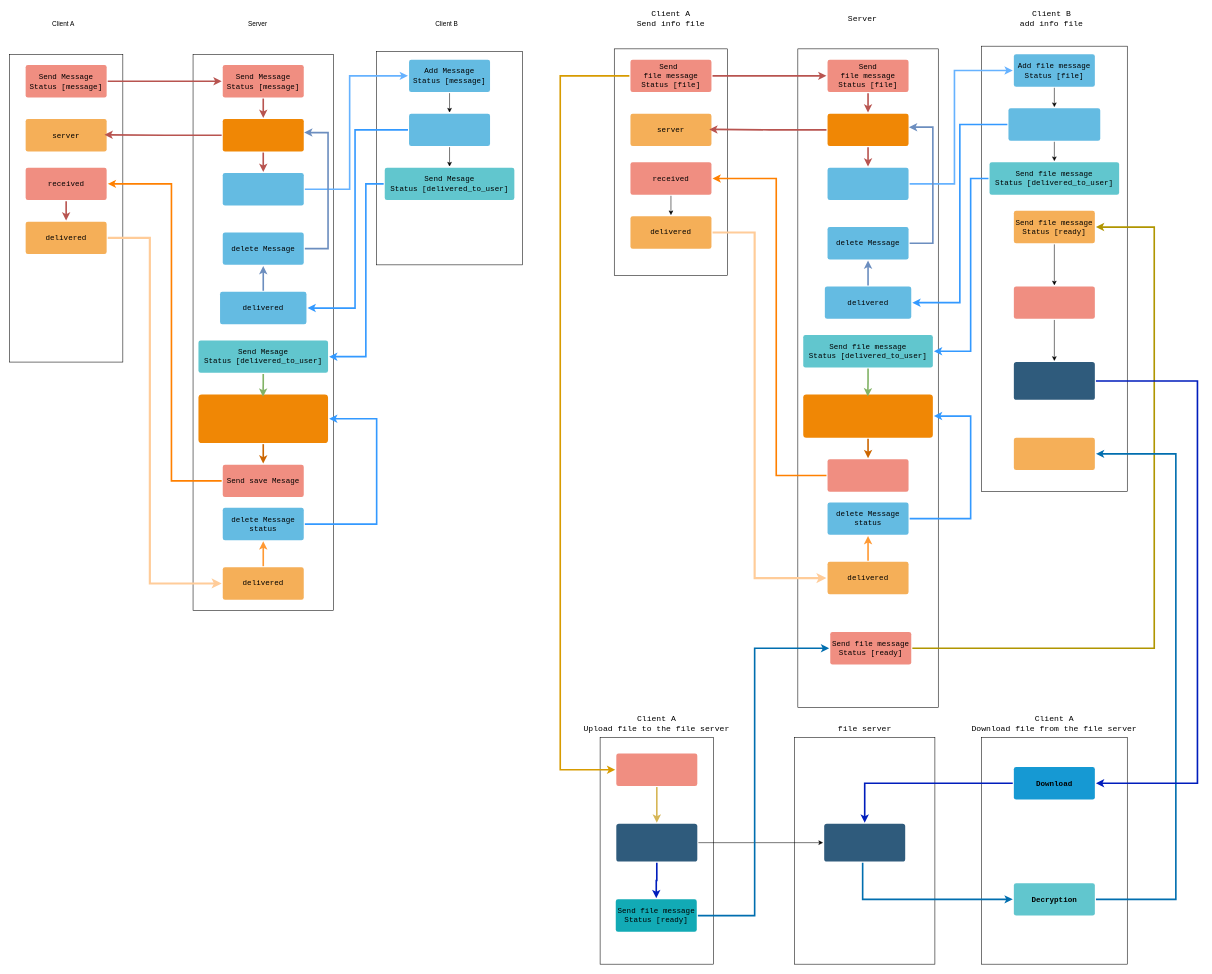
Some shapes in this 1212 by 974 pixel diagram are drawn without their labels. The shapes that lost their labels are listed below. From the top down, each one's centre as x and y in pixels, then its label:
At point (262, 135): "Save Message Status [message]".
At point (449, 129): "Send Message Status [delivered]".
At point (867, 129): "Save file message Status [file]".
At point (1054, 124): "Send file message Status [delivered]".
At point (262, 189): "Send save Message Status [message]".
At point (867, 183): "Send save file message Status [message]".
At point (1054, 302): "if message status==ready".
At point (1054, 381): "touch to download".
At point (263, 418): "Send Mesage Status [delivered_to_user] Change Status [received]".
At point (868, 415): "Send file message Status [delivered_to_user] Change Status [received]".
At point (1054, 453): "Send file message Status [loaded]".
At point (867, 475): "Send save file message".
At point (656, 769): "Encryption file".
At point (656, 842): "Upload file".
At point (864, 842): "Add file".
